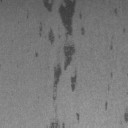red iron: (26, 0, 85, 128), (114, 8, 126, 34), (124, 112, 128, 122), (109, 45, 114, 51), (105, 101, 108, 110), (110, 72, 114, 78)
